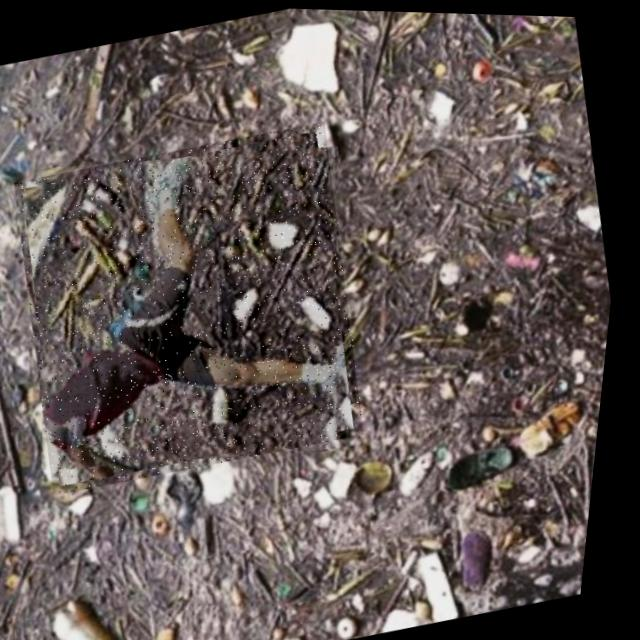Person in Rubble: (0, 111, 400, 501)
